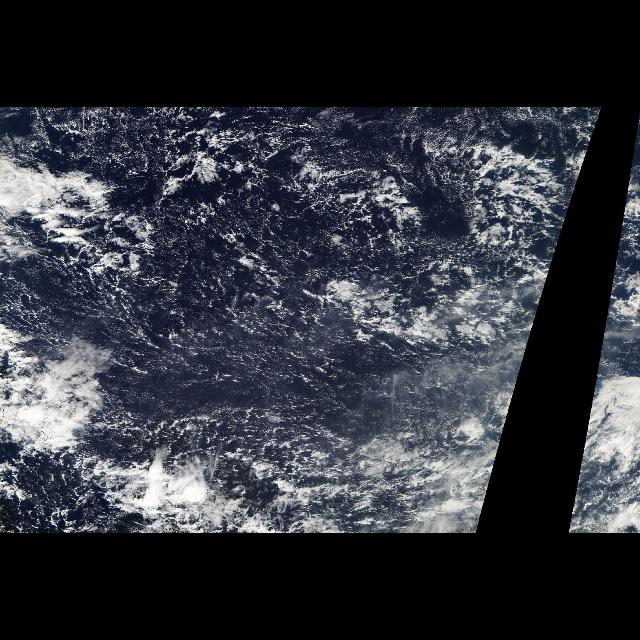Gravel: (60, 117, 522, 367)
